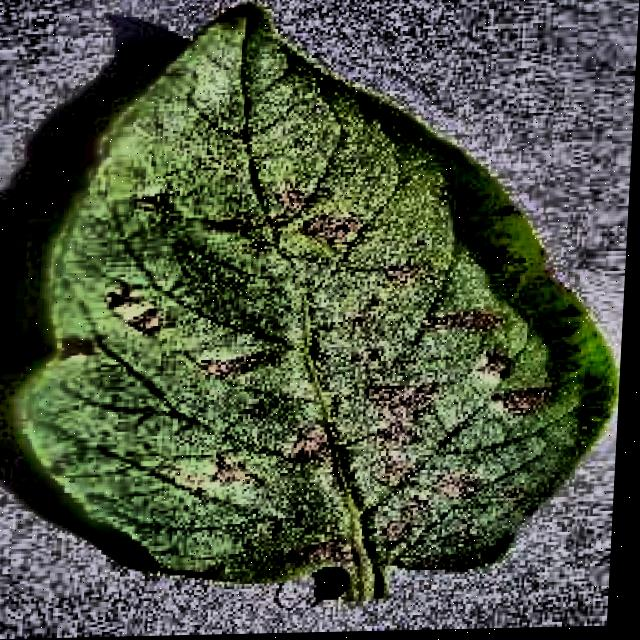Potato_leaf_early_blight: (17, 4, 613, 599)
